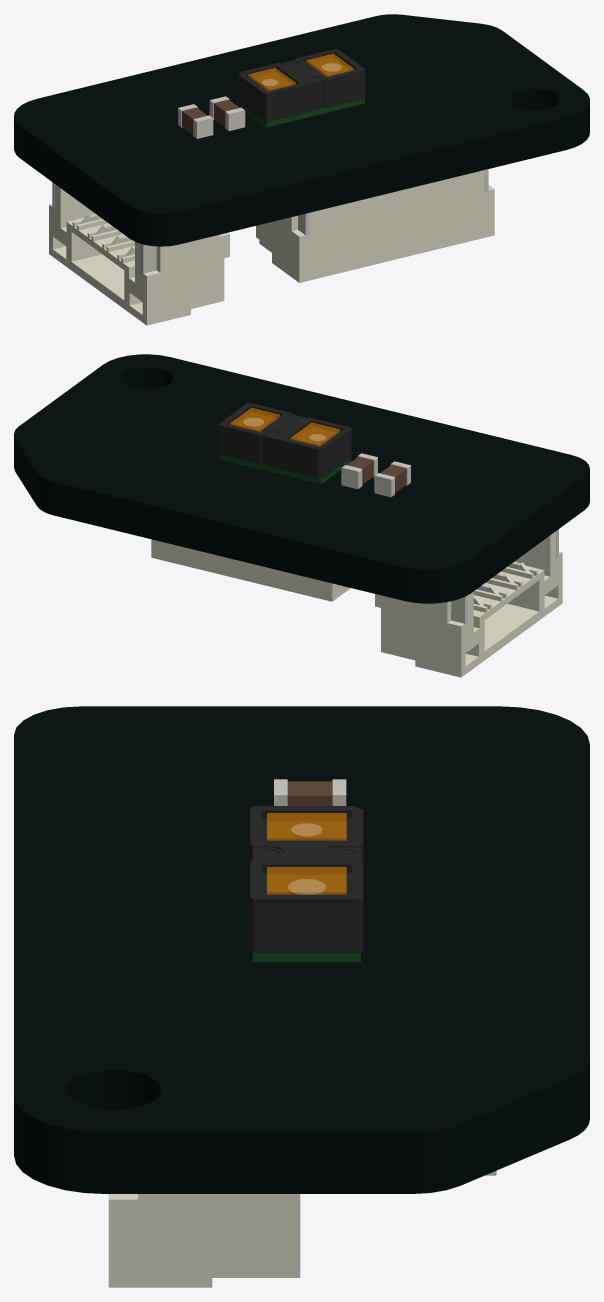
Rendered from tof-module-draco.glb.
The picture shows the model from 3 angles, top to bottom: view 1: azimuth 30°, elevation 25°; view 2: azimuth 150°, elevation 25°; view 3: azimuth 270°, elevation 25°; orthographic projection. The views are drawn at different scales.
Visible parts, largest first — view 1: =>[0:1:1:18], =>[0:1:1:7], =>[0:1:1:5], =>[0:1:1:3]; view 2: =>[0:1:1:18], =>[0:1:1:7], =>[0:1:1:5], =>[0:1:1:3]; view 3: =>[0:1:1:18], =>[0:1:1:5], =>[0:1:1:7], =>[0:1:1:3].
Part boxes in pixels (x1=…): =>[0:1:1:18]: x1=14, y1=14, x2=589, y2=246; =>[0:1:1:7]: x1=49, y1=169, x2=494, y2=325; =>[0:1:1:5]: x1=237, y1=49, x2=365, y2=127; =>[0:1:1:3]: x1=178, y1=96, x2=245, y2=138; =>[0:1:1:18]: x1=14, y1=354, x2=589, y2=603; =>[0:1:1:7]: x1=151, y1=529, x2=562, y2=677; =>[0:1:1:5]: x1=218, y1=402, x2=351, y2=484; =>[0:1:1:3]: x1=341, y1=453, x2=410, y2=497; =>[0:1:1:18]: x1=14, y1=706, x2=589, y2=1193; =>[0:1:1:5]: x1=250, y1=806, x2=363, y2=961; =>[0:1:1:7]: x1=108, y1=1194, x2=300, y2=1287; =>[0:1:1:3]: x1=274, y1=779, x2=496, y2=1175.
Bounding box in the file's own units: 0.0223 × 0.00748 × 0.0128.
